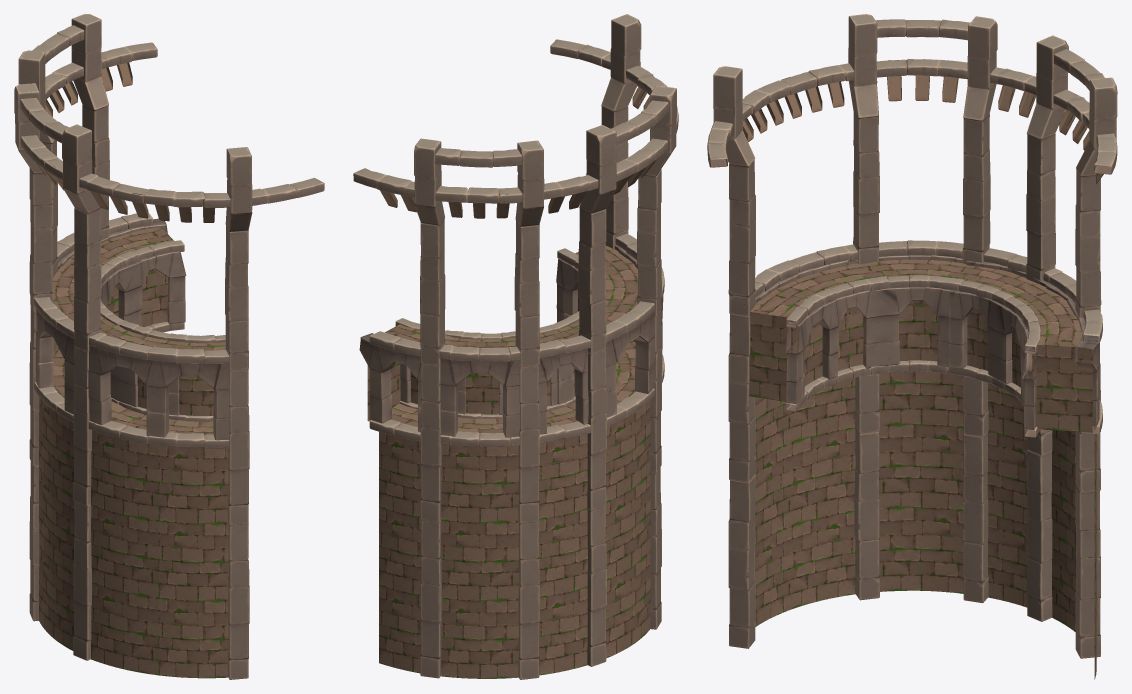
Rendered from SM_Arena_FrontWall.fbx.
The picture shows the model from 3 angles, left to right: view 1: azimuth 30°, elevation 25°; view 2: azimuth 150°, elevation 25°; view 3: azimuth 270°, elevation 25°; orthographic projection. The views are drawn at different scales.
Parts seen in each view (by area): view 1: FrontWall_Walls, FrontWall_Pillar5, FrontWall_Pillar4, FrontWall_Arch1, FrontWall_Pillar3, BrickEdge5, FrontWall_Arch2, FrontWall_Pillar2, BrickEdge2, BrickEdge1, BrickEdge3, FrontWall_Pillar1 (+2 smaller); view 2: FrontWall_Walls, FrontWall_Pillar2, FrontWall_Pillar3, FrontWall_Pillar1, FrontWall_Arch1, FrontWall_Pillar4, BrickEdge5, FrontWall_Pillar5, BrickEdge2, BrickEdge1, FrontWall_Arch2, BrickEdge6 (+1 smaller); view 3: FrontWall_Walls, FrontWall_Pillar5, FrontWall_Arch2, FrontWall_Pillar3, FrontWall_Pillar4, FrontWall_Pillar1, FrontWall_Pillar2, BrickEdge5, BrickEdge2, BrickEdge3, FrontWall_Arch1, BrickEdge6 (+1 smaller).
Part boxes in pixels (box(x1,y1,x2,y2)): FrontWall_Walls: box(35, 62, 228, 678); FrontWall_Pillar5: box(225, 147, 252, 679); FrontWall_Pillar4: box(62, 124, 101, 660); FrontWall_Arch1: box(36, 218, 229, 440); FrontWall_Pillar3: box(14, 83, 52, 621); BrickEdge5: box(20, 42, 324, 207); FrontWall_Arch2: box(100, 251, 186, 415); FrontWall_Pillar2: box(71, 14, 109, 239); BrickEdge2: box(29, 212, 229, 364); BrickEdge1: box(29, 363, 229, 448); BrickEdge3: box(100, 240, 225, 343); FrontWall_Pillar1: box(18, 50, 57, 353); FrontWall_Walls: box(367, 75, 661, 678); FrontWall_Pillar2: box(414, 138, 445, 678); FrontWall_Pillar3: box(578, 125, 616, 666); FrontWall_Pillar1: box(514, 140, 544, 679); FrontWall_Arch1: box(359, 244, 663, 437); FrontWall_Pillar4: box(637, 86, 676, 629); BrickEdge5: box(353, 39, 678, 203); FrontWall_Pillar5: box(601, 14, 641, 248); BrickEdge2: box(369, 233, 664, 361); BrickEdge1: box(369, 340, 664, 446); FrontWall_Arch2: box(400, 258, 578, 414); BrickEdge6: box(435, 100, 668, 167); FrontWall_Walls: box(743, 60, 1103, 679); FrontWall_Pillar5: box(713, 66, 755, 648); FrontWall_Arch2: box(785, 287, 1037, 429); FrontWall_Pillar3: box(962, 16, 997, 603); FrontWall_Pillar4: box(848, 14, 879, 600); FrontWall_Pillar1: box(1026, 35, 1068, 621); FrontWall_Pillar2: box(1075, 77, 1117, 658); BrickEdge5: box(707, 59, 1117, 174); BrickEdge2: box(755, 240, 1102, 343); BrickEdge3: box(786, 275, 1040, 353); FrontWall_Arch1: box(755, 255, 1099, 426); BrickEdge6: box(875, 19, 1104, 90).
Bounding box in the file's own units: 1.39 × 3.4 × 2.22.
